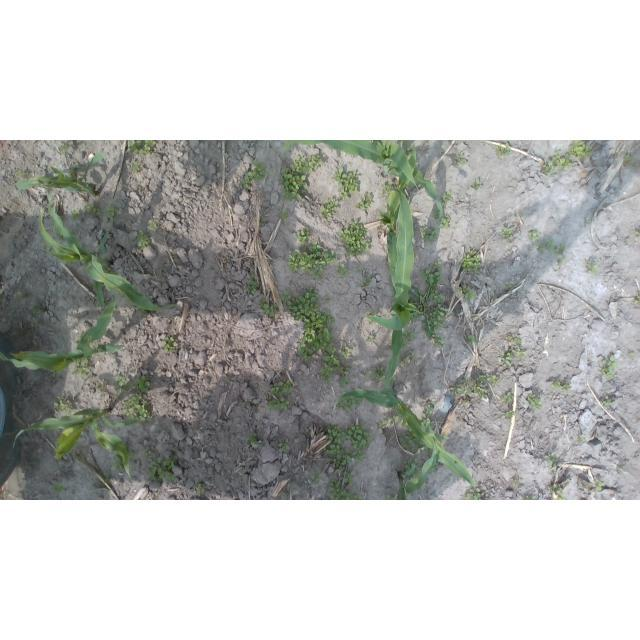Maize: (37, 178, 183, 315), (333, 389, 478, 491), (283, 141, 446, 224), (377, 141, 425, 395), (13, 406, 147, 486), (0, 292, 130, 372), (14, 150, 108, 198), (393, 434, 440, 500)
Weeds: (282, 287, 355, 387), (327, 424, 373, 500), (410, 261, 447, 352), (399, 400, 436, 455), (282, 154, 323, 202), (286, 242, 339, 278), (526, 229, 568, 272), (543, 141, 593, 176), (114, 375, 151, 422), (449, 375, 499, 404), (338, 221, 372, 257), (70, 202, 119, 225), (333, 167, 360, 200), (501, 333, 526, 367), (268, 380, 293, 412), (149, 455, 178, 482), (242, 161, 269, 189), (376, 406, 405, 431), (435, 192, 453, 229), (460, 249, 481, 273), (402, 329, 415, 363), (127, 140, 157, 154), (259, 298, 279, 318), (601, 352, 617, 376), (419, 225, 439, 244), (457, 283, 477, 301), (27, 302, 41, 326), (361, 367, 385, 381), (324, 491, 360, 500), (322, 198, 339, 217), (549, 378, 572, 392), (404, 458, 420, 478), (245, 276, 260, 297), (51, 397, 73, 411), (73, 362, 92, 378), (504, 391, 515, 418), (584, 260, 600, 277), (161, 336, 177, 352), (359, 193, 373, 211), (495, 144, 513, 157), (296, 226, 310, 242), (464, 489, 484, 500), (137, 232, 148, 250), (247, 432, 261, 446), (499, 226, 513, 240), (453, 154, 468, 167), (592, 481, 605, 496), (550, 484, 562, 500), (470, 179, 484, 192), (530, 394, 541, 410), (624, 154, 637, 167), (147, 220, 158, 232), (545, 453, 558, 463), (601, 395, 611, 408), (468, 335, 481, 345), (280, 209, 289, 223), (338, 265, 349, 276), (511, 476, 520, 489), (279, 443, 292, 452), (370, 311, 379, 324), (362, 277, 371, 289), (504, 281, 513, 293), (59, 141, 69, 151), (310, 474, 321, 483), (196, 483, 205, 493), (132, 161, 140, 172), (634, 291, 640, 305), (14, 292, 27, 298), (366, 333, 373, 344), (628, 352, 636, 361), (241, 401, 251, 408), (525, 496, 536, 501), (259, 221, 265, 227), (577, 435, 581, 444)
